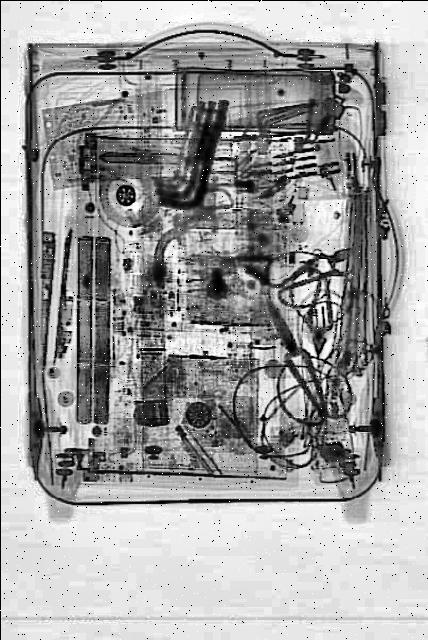Scissors: (239, 276, 357, 454), (283, 264, 357, 362)
